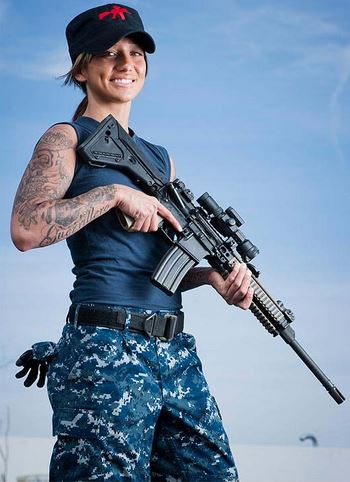Rifle: (78, 111, 347, 410)
